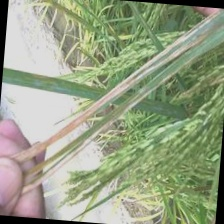Leaf_Blast: (22, 75, 125, 153)
